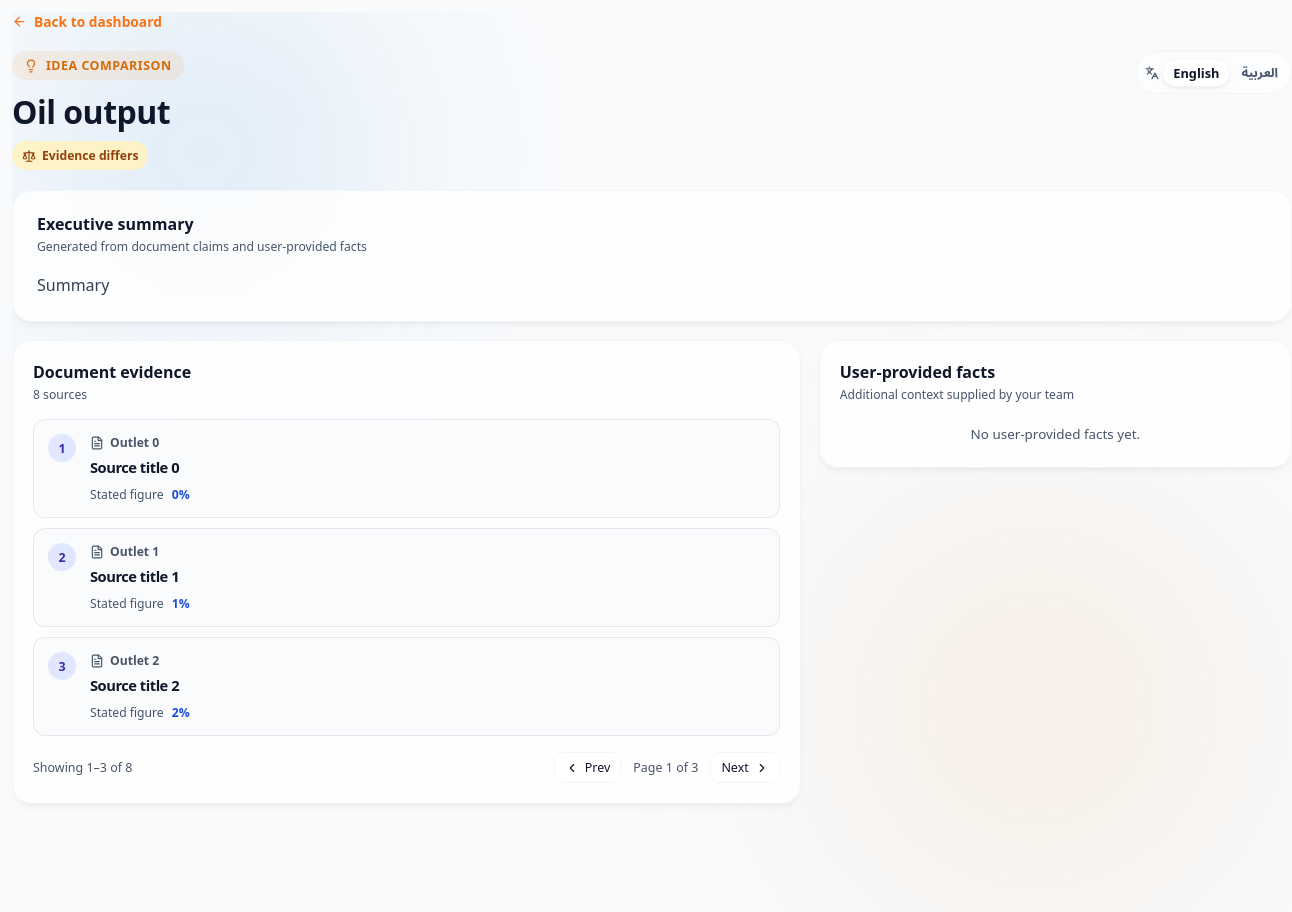
Scenario: IdeaComparisonDetailPage pagination › pages document evidence and keeps the global numbering
Expected: the heading "Source title 0" is shown, [90,457,179,477]
Expected: the heading "Source title 2" is shown, [90,675,179,695]
Click the button with aria-label "Next document evidence page" at [745, 768], box [710,752,780,783]
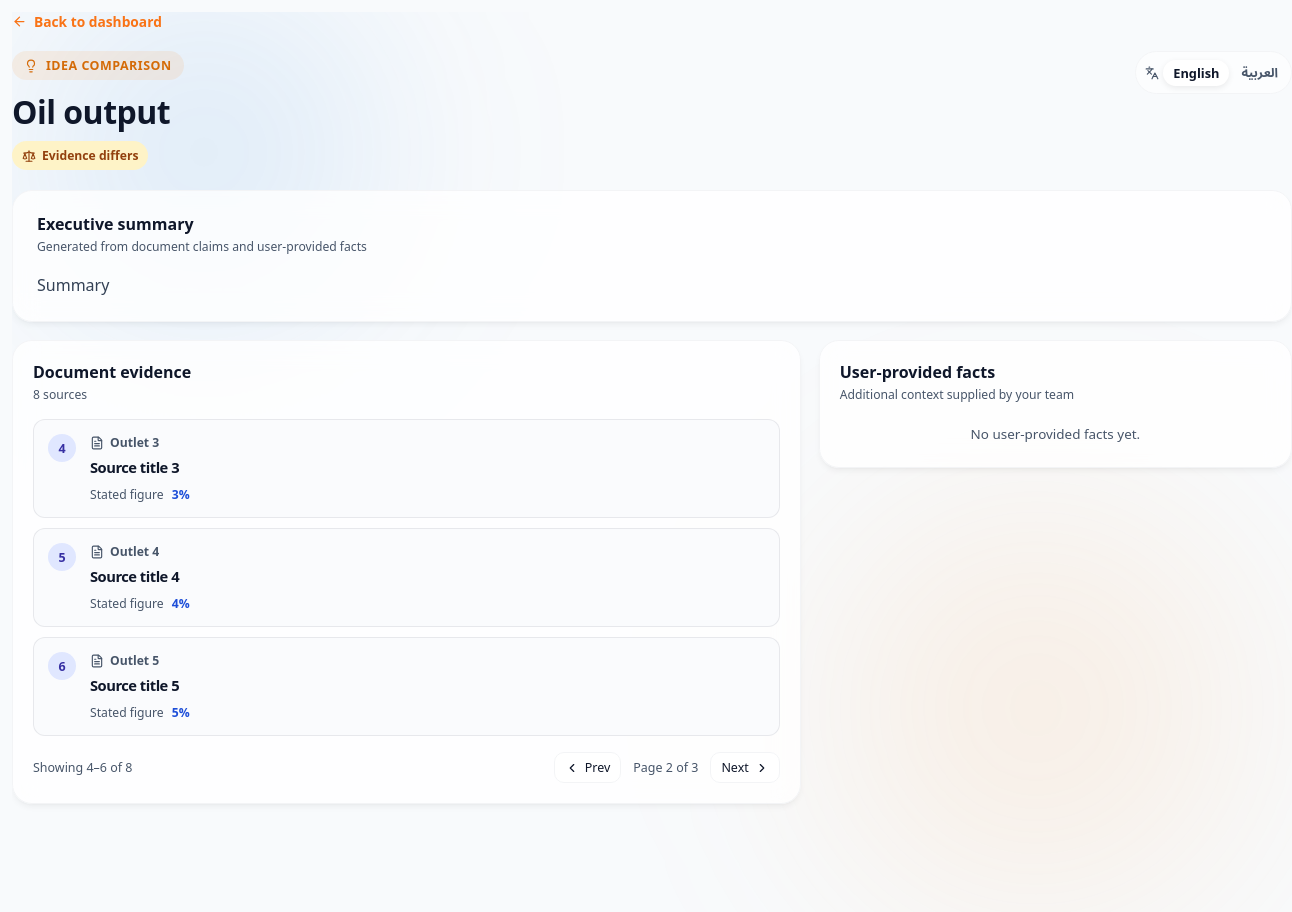
Expected: the heading "Source title 3" is shown, [90,457,179,477]
Expected: the heading "Source title 2" is gone
Expected: the text "4" is shown, [48,434,76,462]
Click the button with aria-label "Next document evidence page" at [745, 768], box [710,752,780,783]
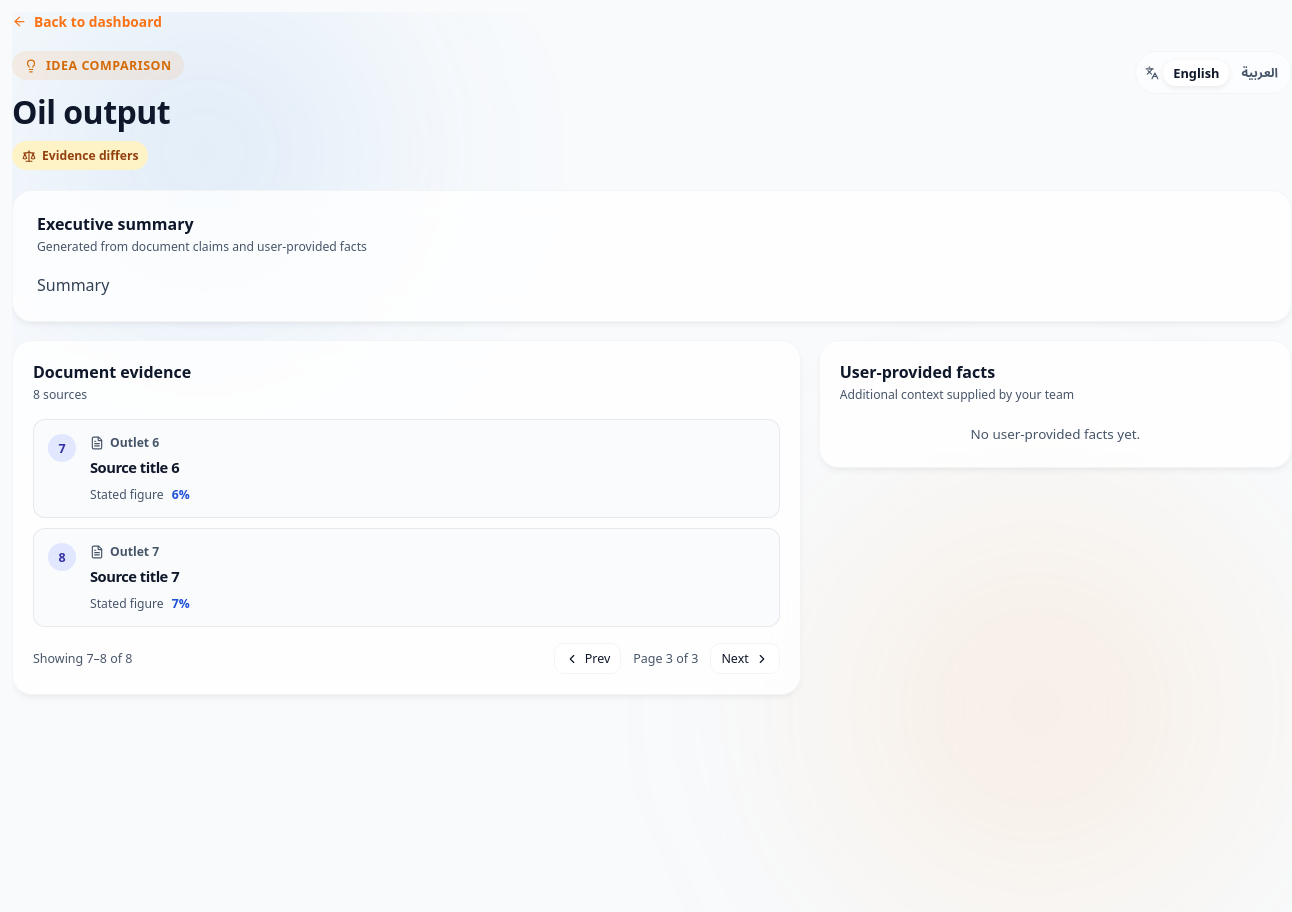
Expected: the text "Showing 7–8 of 8" is shown, [33,650,132,667]
Expected: the text "Page 3 of 3" is shown, [633,650,698,667]
Expected: the button with aria-label "Next document evidence page" is disabled, [710,643,780,674]
